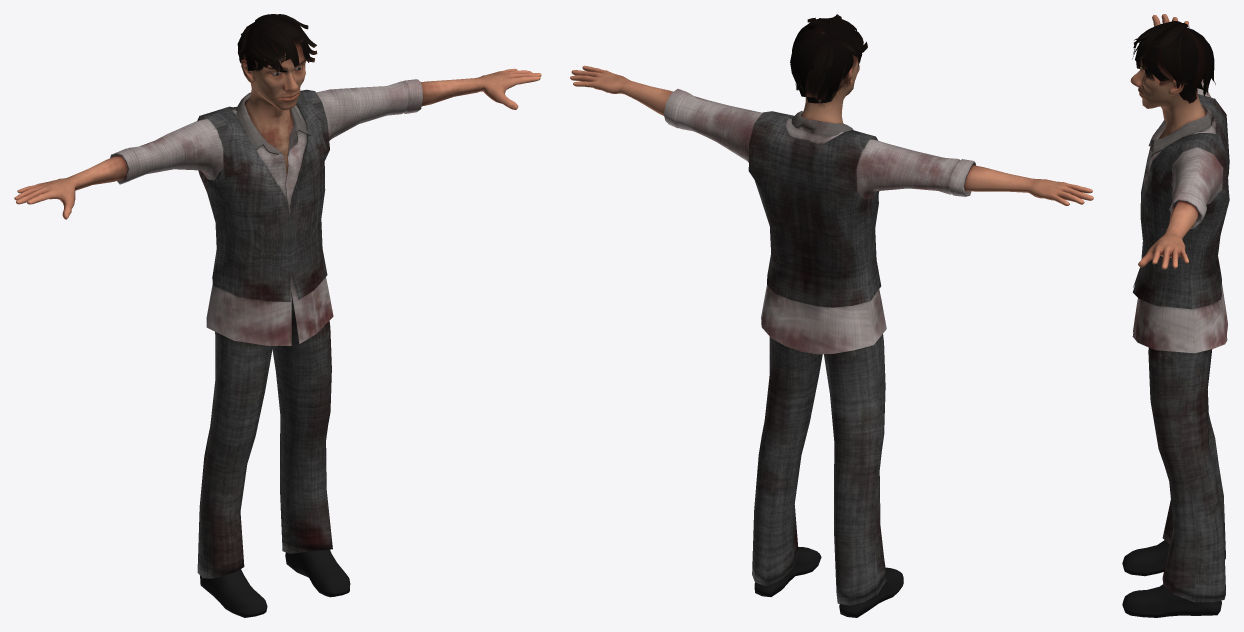
The model's file is Character3.fbx.fbx.
3 views of the same model, side by side, from view 1: azimuth 30°, elevation 25°; view 2: azimuth 150°, elevation 25°; view 3: azimuth 270°, elevation 25° (orthographic).
Parts seen in each view (by area): view 1: char4.004; view 2: char4.004; view 3: char4.004.
Boxes of the visible parts, x1,y1,x2,y2 form: char4.004: (14,14,541,617); char4.004: (570,14,1093,617); char4.004: (1122,14,1229,617).
Size of the model in its own units: 166 by 173 by 29.69.
1 material, 1 textured.
